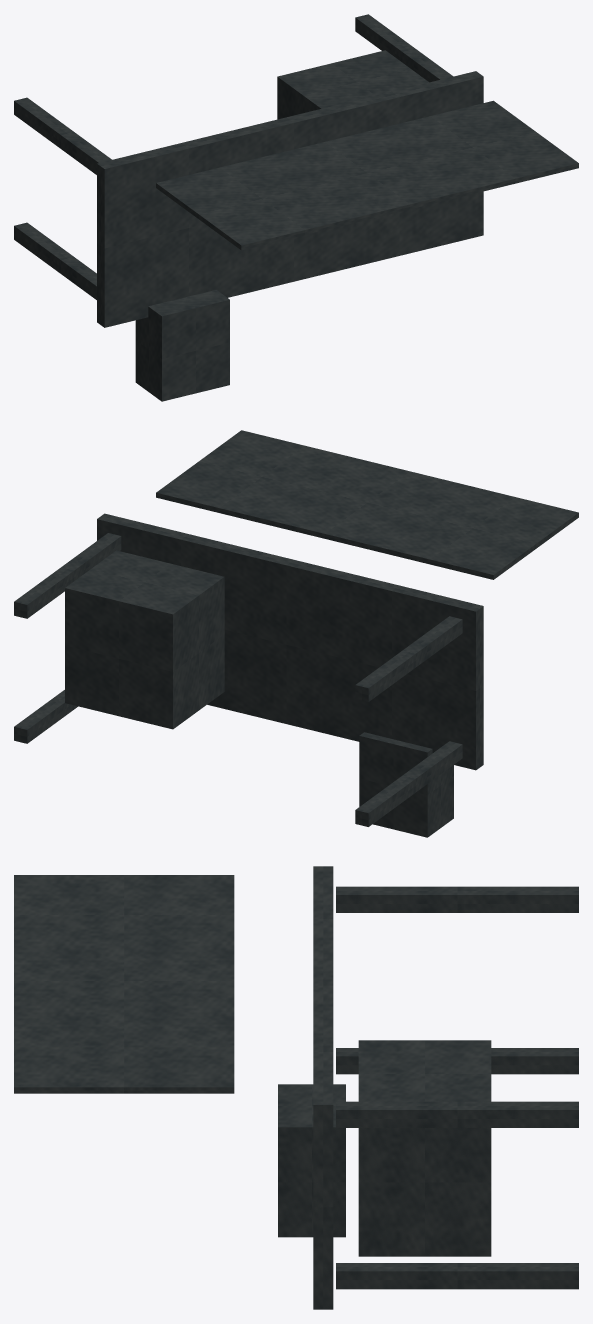
Rendered from PROJECT_Z_Crafting_Workbench_Collision_Helpers.glb.
The picture shows the model from 3 angles, top to bottom: view 1: azimuth 30°, elevation 25°; view 2: azimuth 150°, elevation 25°; view 3: azimuth 270°, elevation 25°; orthographic projection. The views are drawn at different scales.
Parts seen in each view (by area): view 1: UCX_Workbench_MainTop_01, UCX_Workbench_Pegboard_01, UCX_Workbench_Vise_01, UCX_Workbench_Toolbox_01, UCX_Workbench_Leg_0_1, UCX_Workbench_Leg_0_0, UCX_Workbench_Leg_1_1; view 2: UCX_Workbench_MainTop_01, UCX_Workbench_Pegboard_01, UCX_Workbench_Toolbox_01, UCX_Workbench_Vise_01, UCX_Workbench_Leg_0_1, UCX_Workbench_Leg_0_0, UCX_Workbench_Leg_1_1, UCX_Workbench_Leg_1_0; view 3: UCX_Workbench_Pegboard_01, UCX_Workbench_Toolbox_01, UCX_Workbench_MainTop_01, UCX_Workbench_Vise_01, UCX_Workbench_Leg_0_1, UCX_Workbench_Leg_1_0, UCX_Workbench_Leg_1_1, UCX_Workbench_Leg_0_0.
Part boxes in pixels (x1,y1,x2,y2): UCX_Workbench_MainTop_01: (97, 71, 483, 327); UCX_Workbench_Pegboard_01: (156, 100, 578, 250); UCX_Workbench_Vise_01: (135, 289, 229, 401); UCX_Workbench_Toolbox_01: (277, 50, 428, 119); UCX_Workbench_Leg_0_1: (14, 97, 111, 174); UCX_Workbench_Leg_0_0: (14, 222, 96, 299); UCX_Workbench_Leg_1_1: (355, 14, 453, 82); UCX_Workbench_MainTop_01: (97, 513, 483, 770); UCX_Workbench_Pegboard_01: (156, 430, 578, 579); UCX_Workbench_Toolbox_01: (65, 550, 224, 729); UCX_Workbench_Vise_01: (359, 732, 453, 837); UCX_Workbench_Leg_0_1: (355, 616, 462, 701); UCX_Workbench_Leg_0_0: (355, 741, 462, 826); UCX_Workbench_Leg_1_1: (14, 533, 121, 618); UCX_Workbench_Leg_1_0: (14, 690, 77, 743); UCX_Workbench_Pegboard_01: (14, 875, 234, 1093); UCX_Workbench_Toolbox_01: (358, 1040, 491, 1256); UCX_Workbench_MainTop_01: (313, 866, 333, 1309); UCX_Workbench_Vise_01: (278, 1084, 345, 1237); UCX_Workbench_Leg_0_1: (336, 886, 578, 912); UCX_Workbench_Leg_1_0: (336, 1263, 578, 1289); UCX_Workbench_Leg_1_1: (336, 1101, 578, 1127); UCX_Workbench_Leg_0_0: (336, 1048, 578, 1074).
Size of the model in its own units: 2 by 1.19 by 2.
Materials: 1 (1 with a texture image).
